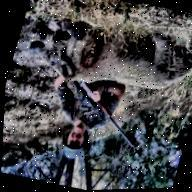boar: (17, 0, 192, 117)
